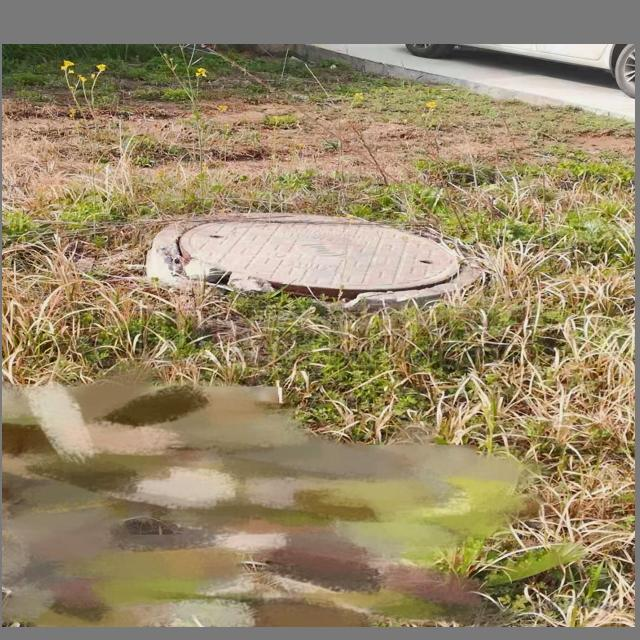circle: (149, 206, 504, 312)
